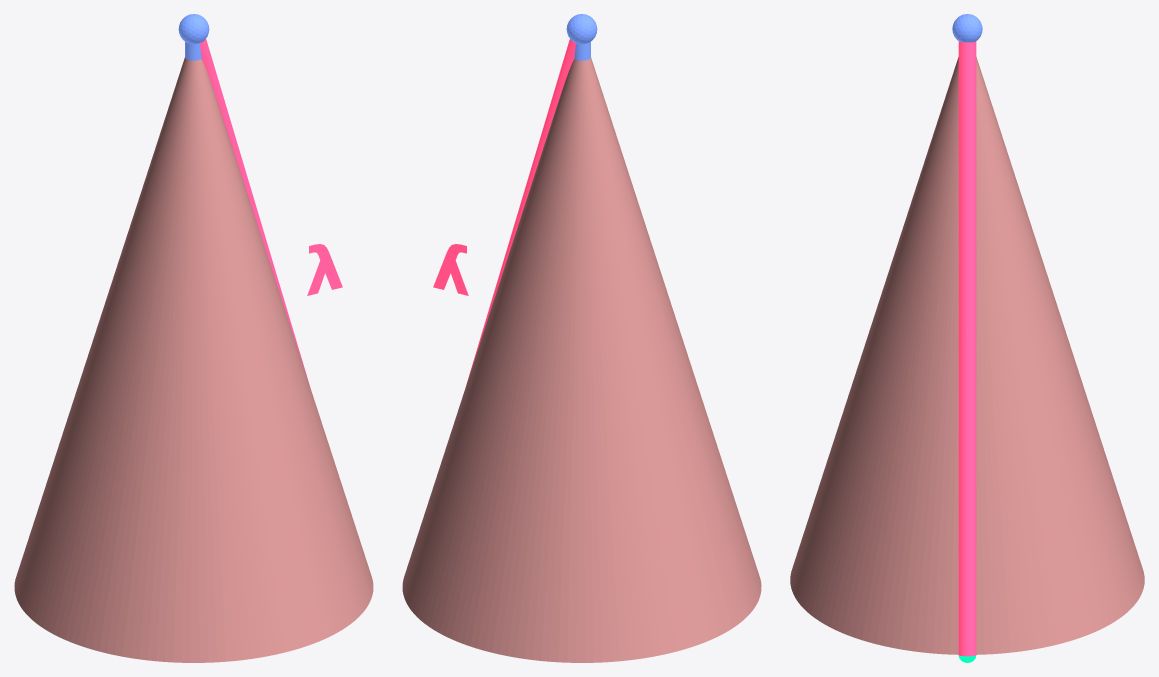
The model's file is konos-trigono.glb.
3 views of the same model, side by side, from view 1: azimuth 30°, elevation 25°; view 2: azimuth 150°, elevation 25°; view 3: azimuth 270°, elevation 25° (orthographic).
Visible parts, largest first — view 1: konos-trigono_0, konos-trigono_4, konos-trigono_10, konos-trigono_5; view 2: konos-trigono_0, konos-trigono_4, konos-trigono_10, konos-trigono_5; view 3: konos-trigono_0, konos-trigono_4, konos-trigono_5.
Part boxes in pixels (left/top/right/bottom): konos-trigono_0: left=14, top=57, right=373, bottom=662; konos-trigono_4: left=200, top=39, right=309, bottom=384; konos-trigono_10: left=307, top=244, right=342, bottom=295; konos-trigono_5: left=178, top=14, right=209, bottom=44; konos-trigono_0: left=402, top=57, right=761, bottom=662; konos-trigono_4: left=466, top=39, right=575, bottom=384; konos-trigono_10: left=433, top=244, right=468, bottom=295; konos-trigono_5: left=566, top=14, right=597, bottom=44; konos-trigono_0: left=790, top=57, right=1144, bottom=654; konos-trigono_4: left=958, top=41, right=976, bottom=656; konos-trigono_5: left=952, top=14, right=982, bottom=42.
Bounding box in the file's own units: 0.1434 × 0.2495 × 0.14.
